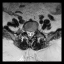CCS_normal: (29, 29, 31, 38)
LFS_normal: (33, 28, 35, 36)
LLS_normal: (31, 29, 33, 37)
RFS_normal: (24, 27, 27, 35)
RLS_normal: (27, 28, 29, 38)
